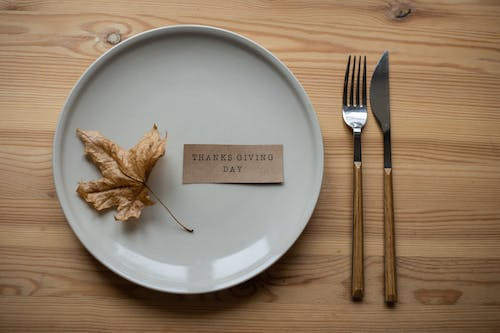knife: (368, 48, 399, 303)
